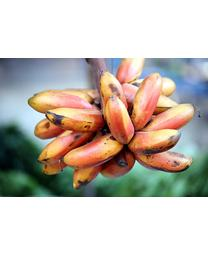banana: (26, 63, 197, 188)
